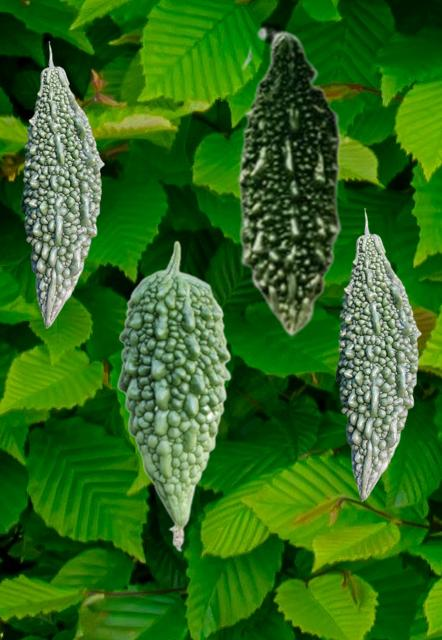ampalaya: (116, 240, 230, 551), (237, 26, 348, 337), (335, 208, 420, 500), (20, 41, 103, 327)
